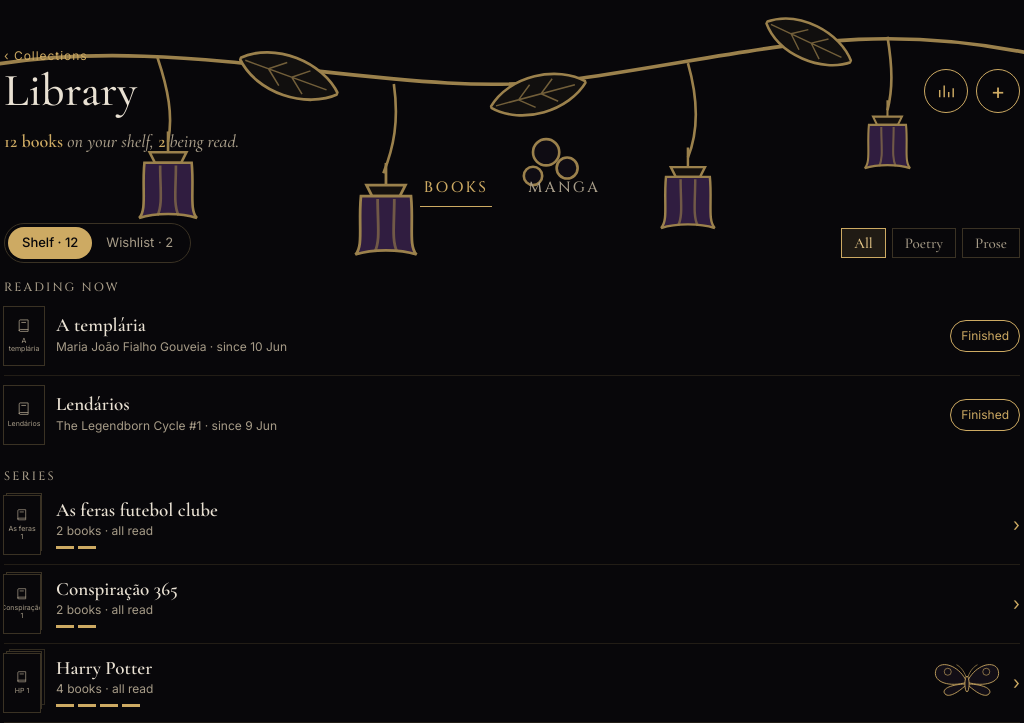
Test: form chips filter the shelf
Click the button "Poetry": [924, 243] box [892,228,956,258]
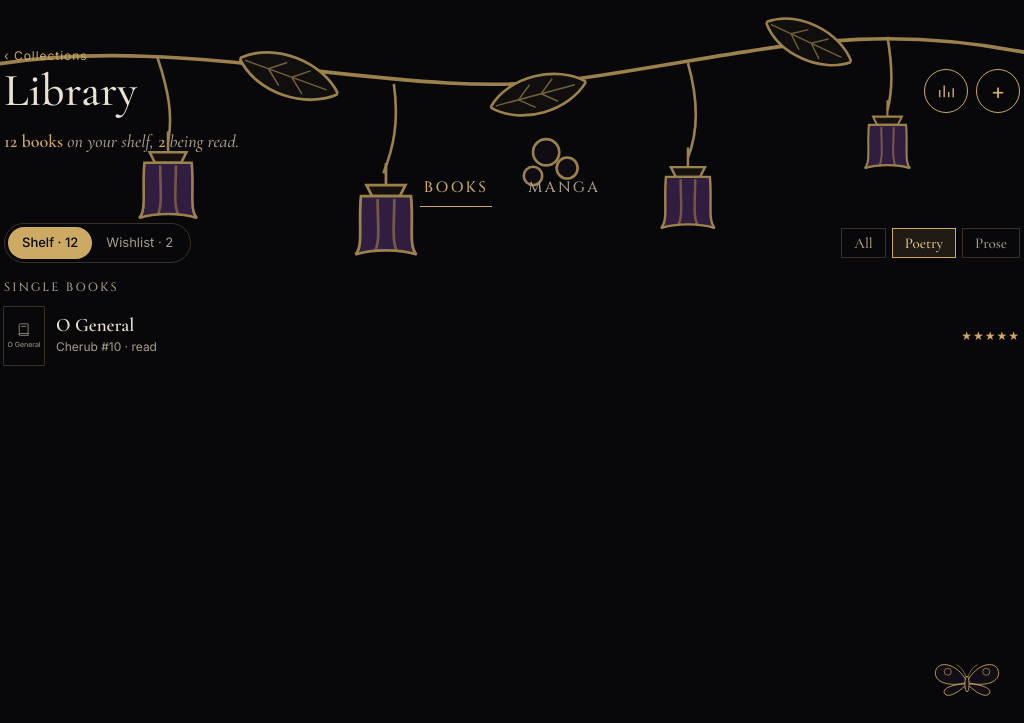
Check: the link "O General" is shown, box [56,313,134,336]
Check: the link "Lendários" is gone
